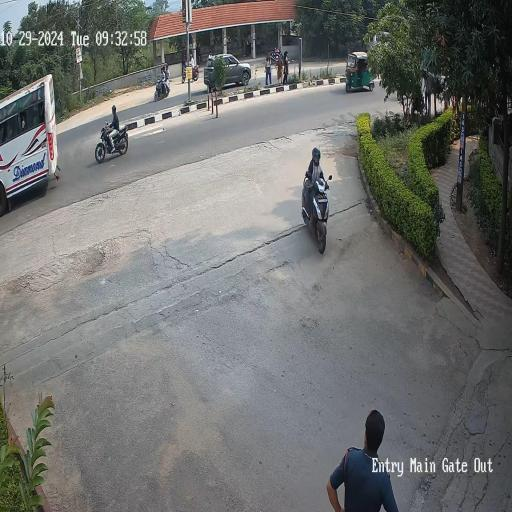helmet: (298, 146, 336, 178), (107, 98, 123, 120)
triple riding: (154, 64, 171, 102)
